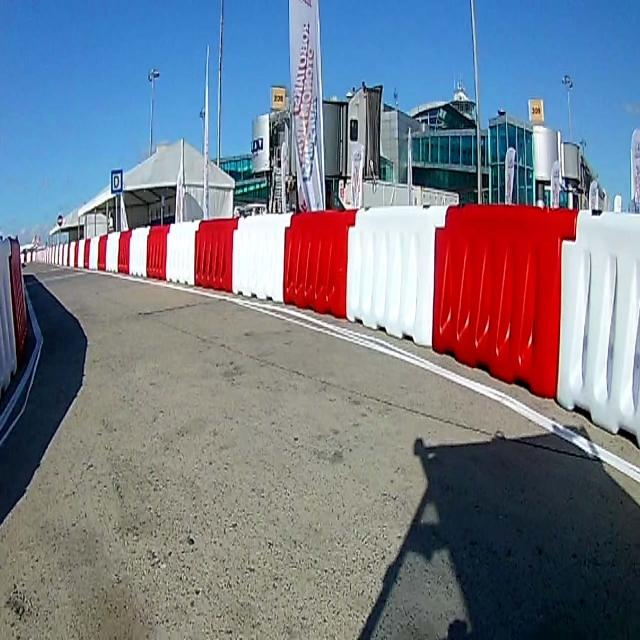durak: (111, 171, 122, 192)
